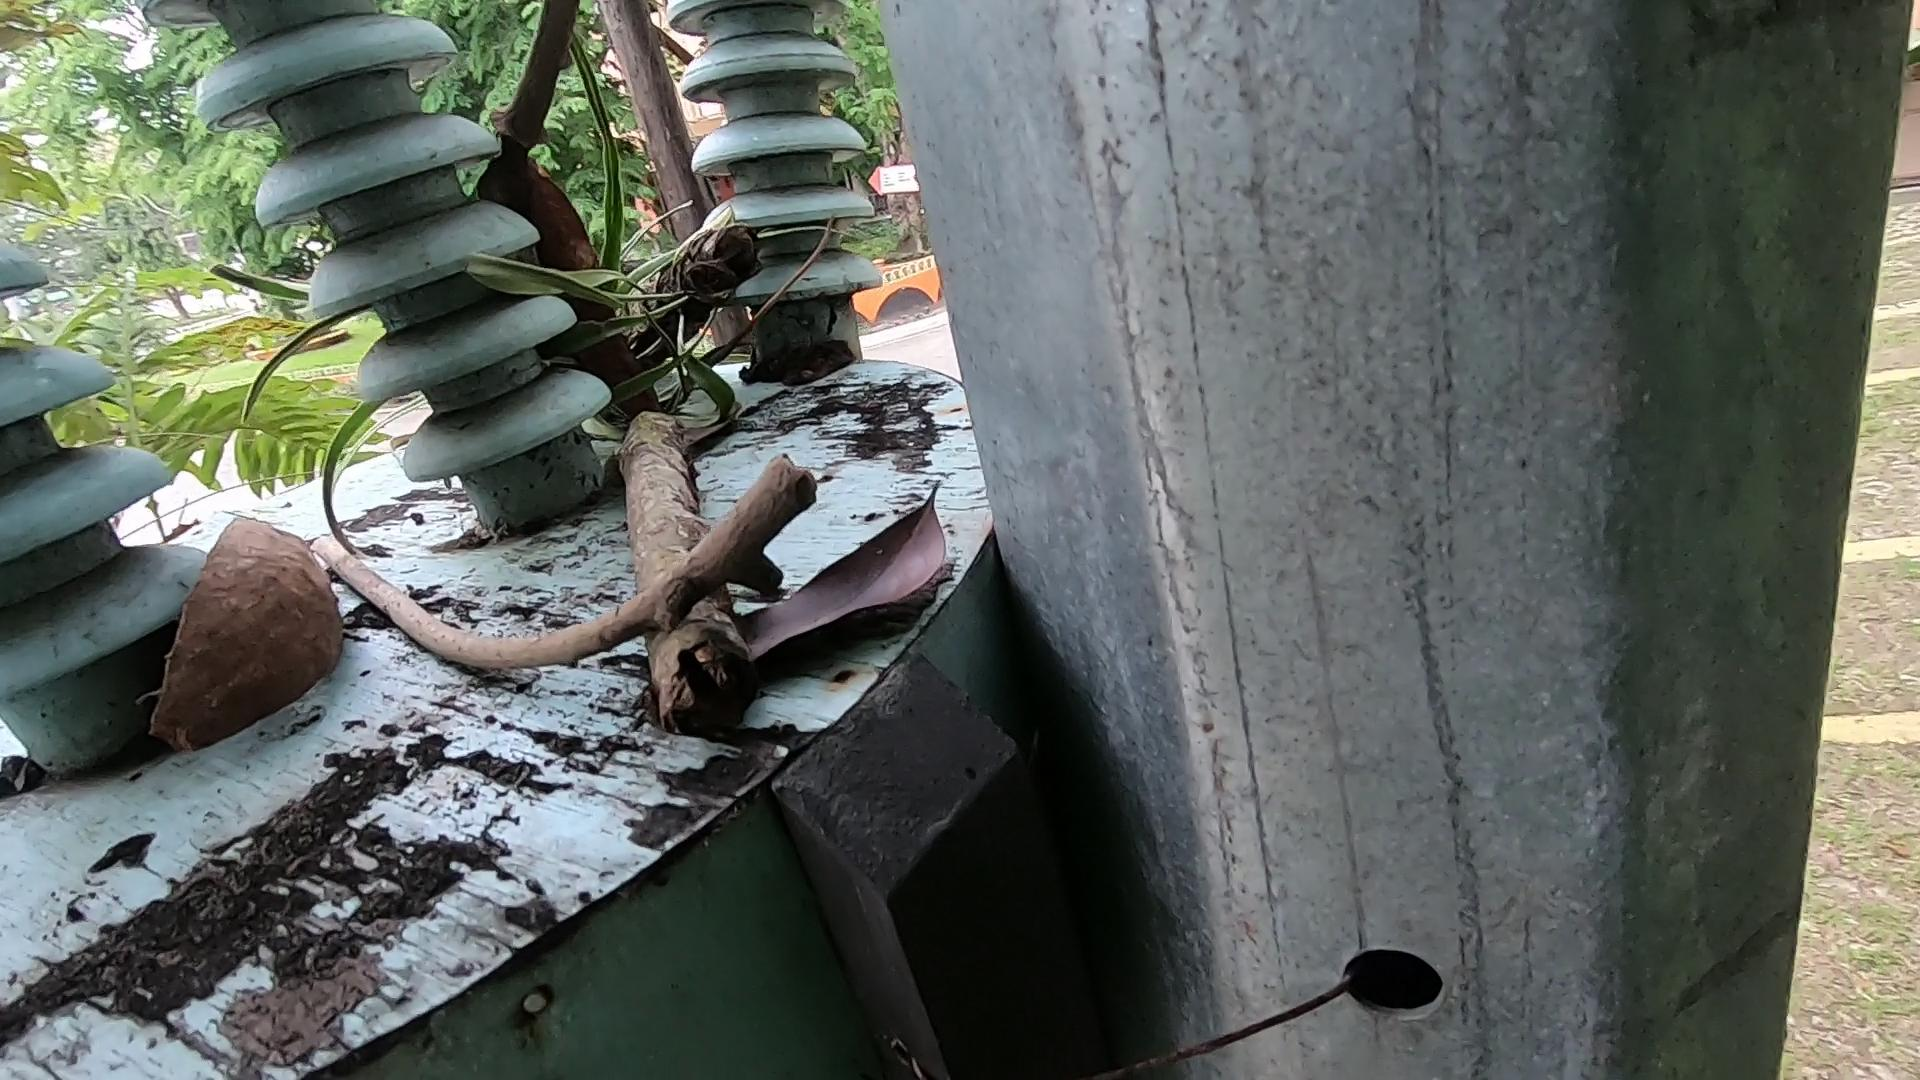branch with leaves: (601, 178, 791, 732)
leaf: (741, 505, 964, 674)
mahogany fruit: (472, 149, 676, 484), (152, 462, 314, 748)
tree branch: (326, 549, 799, 705), (476, 1, 599, 232)
